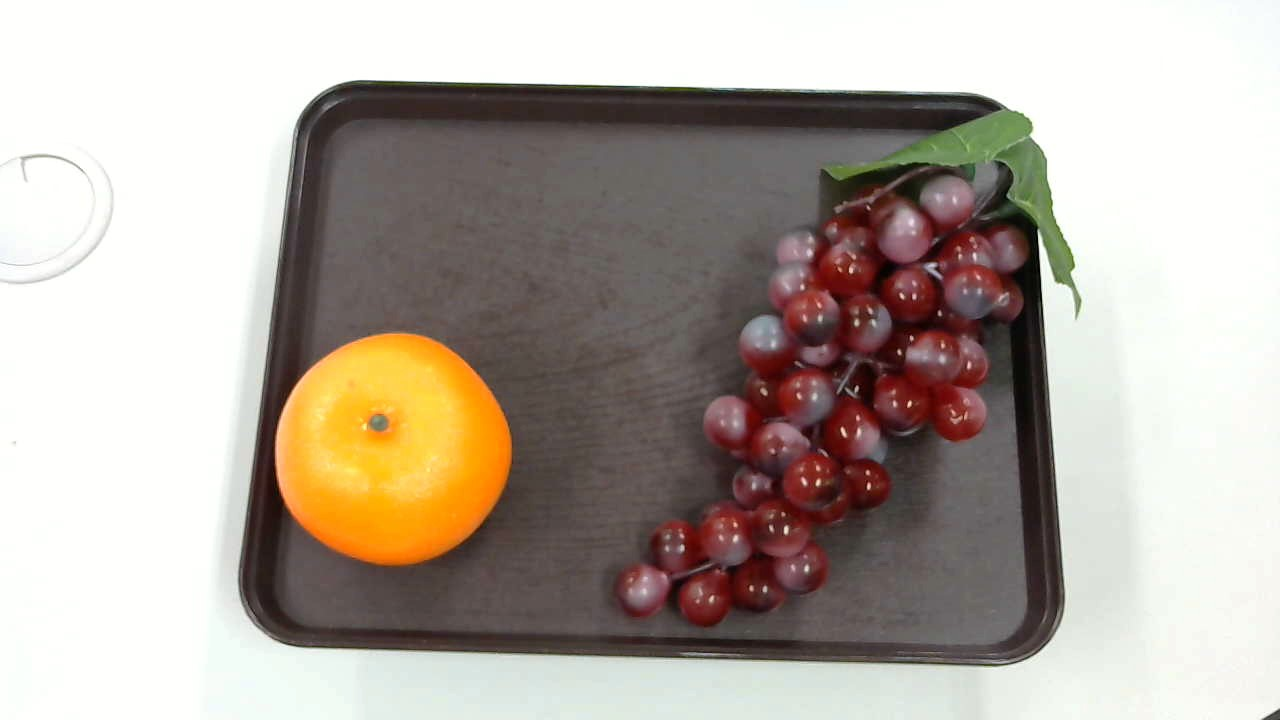grape: (613, 112, 1076, 622)
orange: (276, 332, 518, 563)
